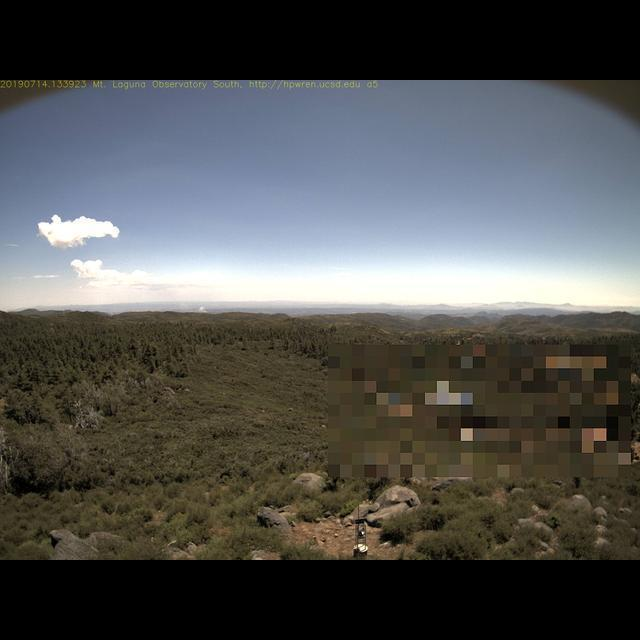Smoke: (191, 297, 211, 312)
